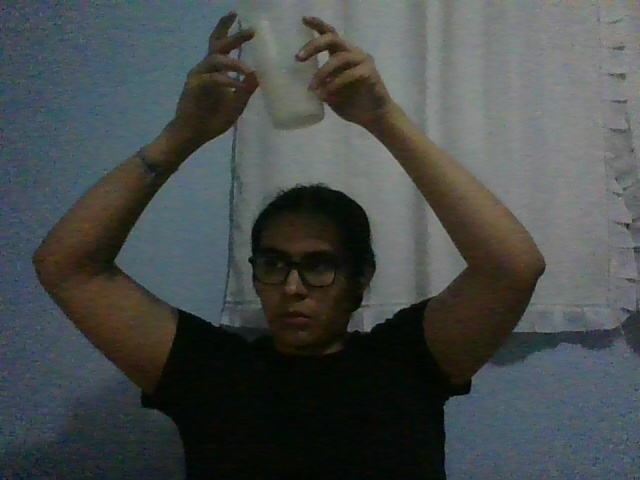vaso: (237, 1, 326, 130)
